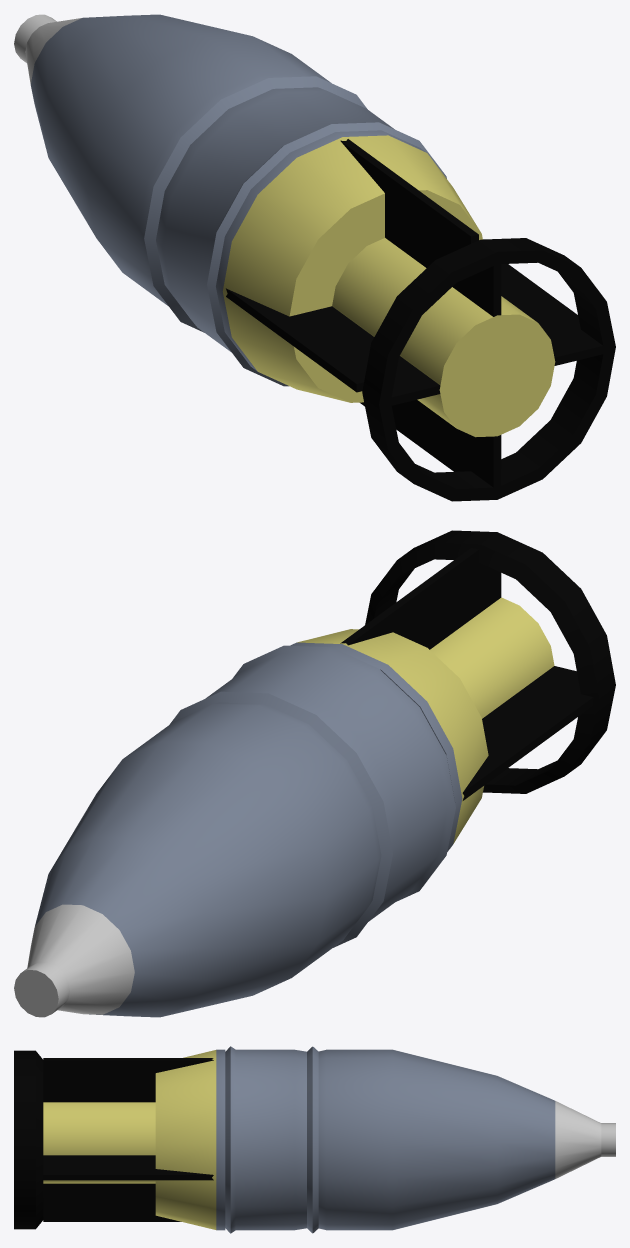
The model's file is he_bullet_3of26.fbx.
3 renders of one model, top to bottom at view 1: azimuth 30°, elevation 25°; view 2: azimuth 150°, elevation 25°; view 3: azimuth 270°, elevation 25°, orthographic. The views are drawn at different scales.
Visible parts, largest first — view 1: Cylinder; view 2: Cylinder; view 3: Cylinder.
Part boxes in pixels (bbox=[...]): Cylinder: bbox=[14, 14, 615, 501]; Cylinder: bbox=[14, 530, 615, 1017]; Cylinder: bbox=[14, 1046, 615, 1233].
Size of the model in its own units: 93.54 by 93.54 by 300.
